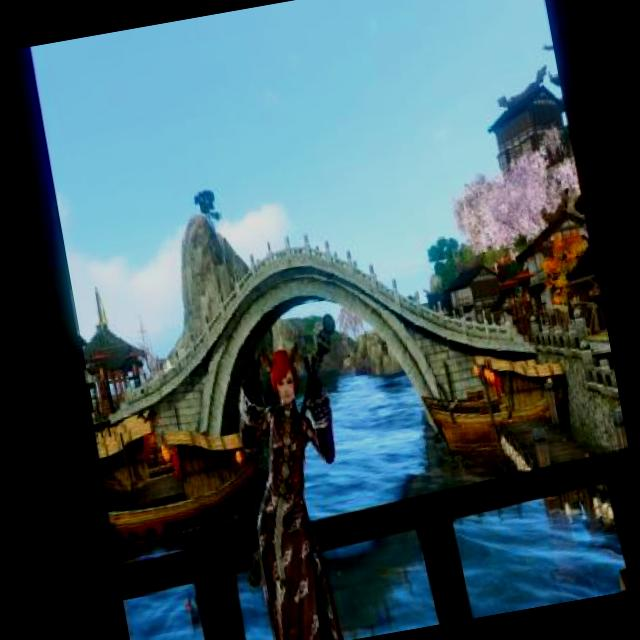Person: (222, 343, 375, 640)
